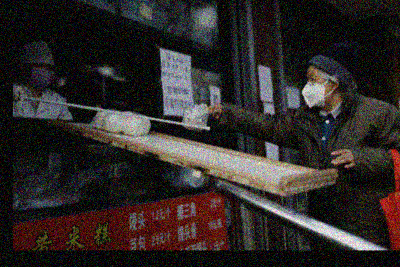with_mask: (300, 71, 329, 110), (27, 62, 54, 88)
